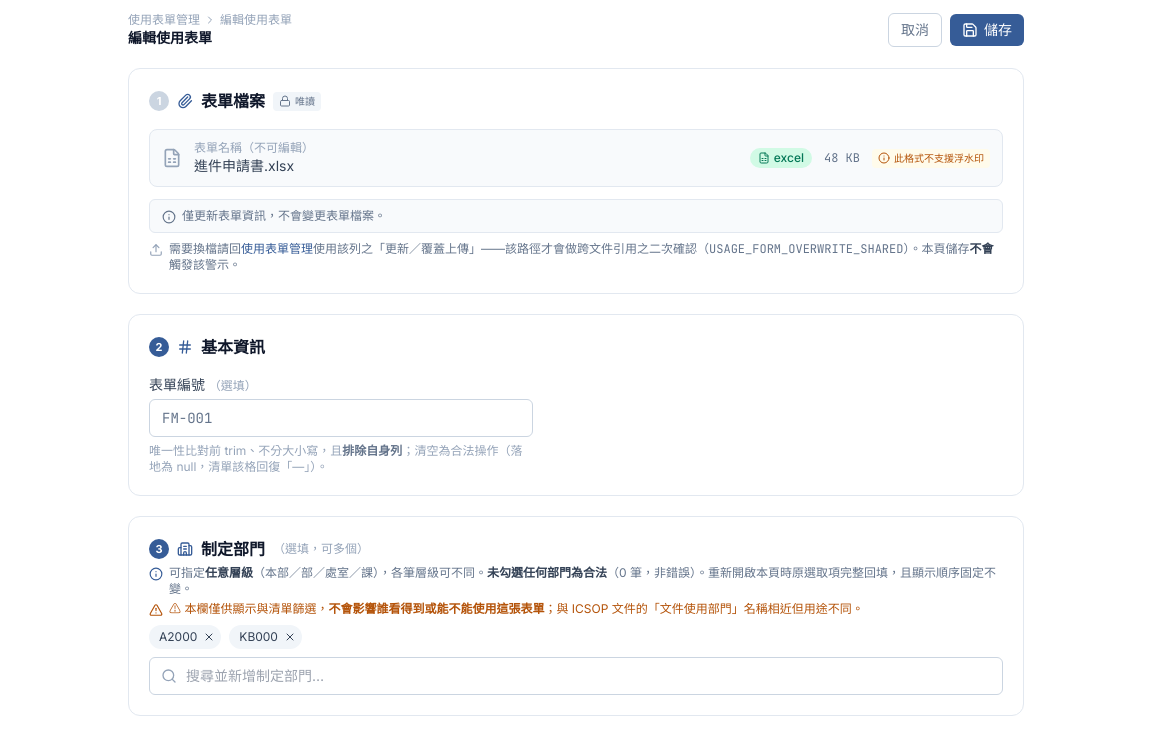
Scenario: UsageFormEditPage — F018 D9 delta（AC-N41、AC-N48、AC-N49、AC-N79） › AC-N44 儲存時之編號驗證沿用既有機制：409 → 逐字沿用「表單編號已存在（比對前 trim、不分大小寫）。」
Replace the text in the field labelled "表單編號 （選填）" with "FM-777". click: (341, 418)
box: x1=149 y1=399 x2=533 y2=437
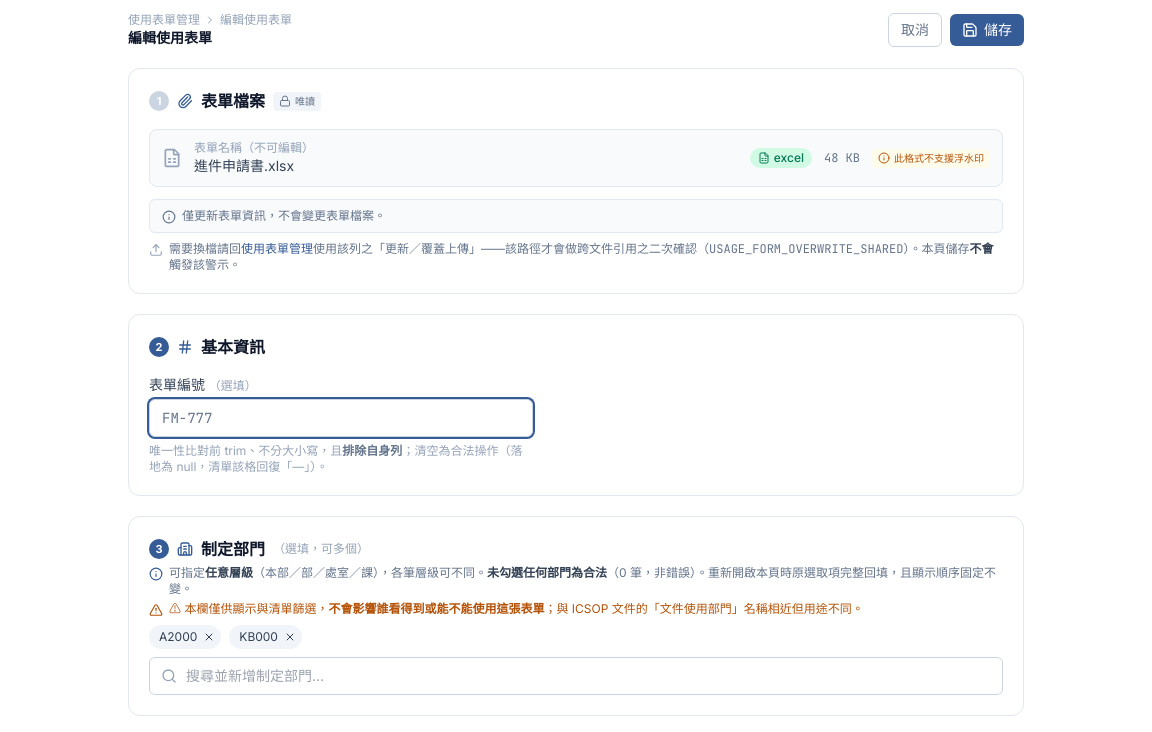
Click the button "儲存". click: (987, 30)
box: x1=950 y1=14 x2=1024 y2=46
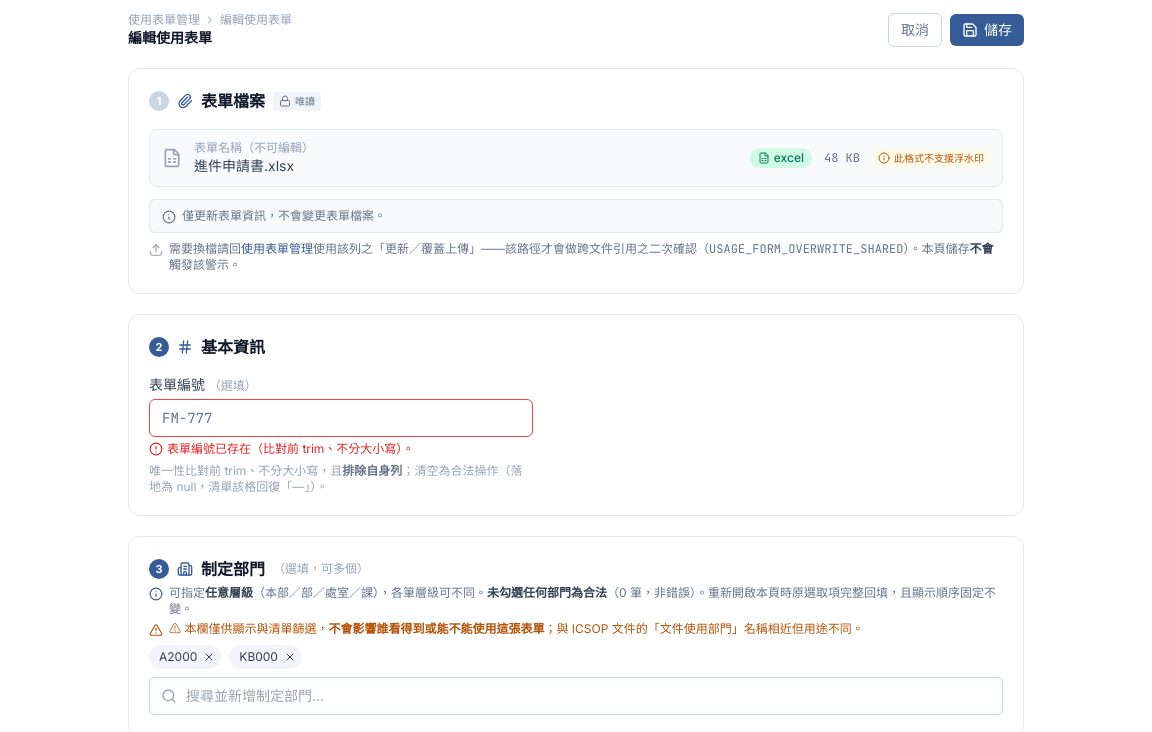
Result: the text "表單編號已存在（比對前 trim、不分大小寫）。" is shown at x1=167 y1=441 x2=414 y2=457
